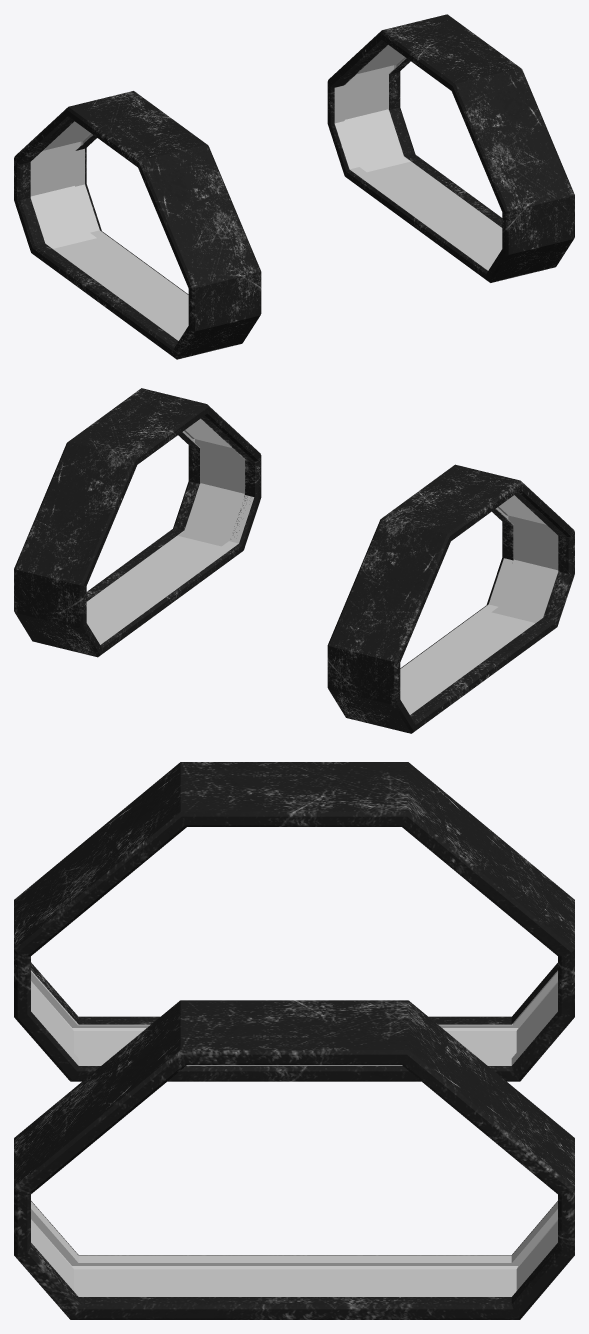
File: Cadenas robot.fbx
3 renders of one model, top to bottom at view 1: azimuth 30°, elevation 25°; view 2: azimuth 150°, elevation 25°; view 3: azimuth 270°, elevation 25°, orthographic. The views are drawn at different scales.
Visible parts, largest first — view 1: polySurface80, polySurface81; view 2: polySurface80, polySurface81; view 3: polySurface80, polySurface81.
Part boxes in pixels (bbox=[...]): polySurface80: bbox=[14, 14, 574, 359]; polySurface81: bbox=[30, 45, 502, 340]; polySurface80: bbox=[14, 388, 574, 733]; polySurface81: bbox=[86, 418, 558, 714]; polySurface80: bbox=[14, 762, 574, 1319]; polySurface81: bbox=[31, 970, 557, 1296].
Bounding box in the file's own units: 130 × 56.24 × 106.
